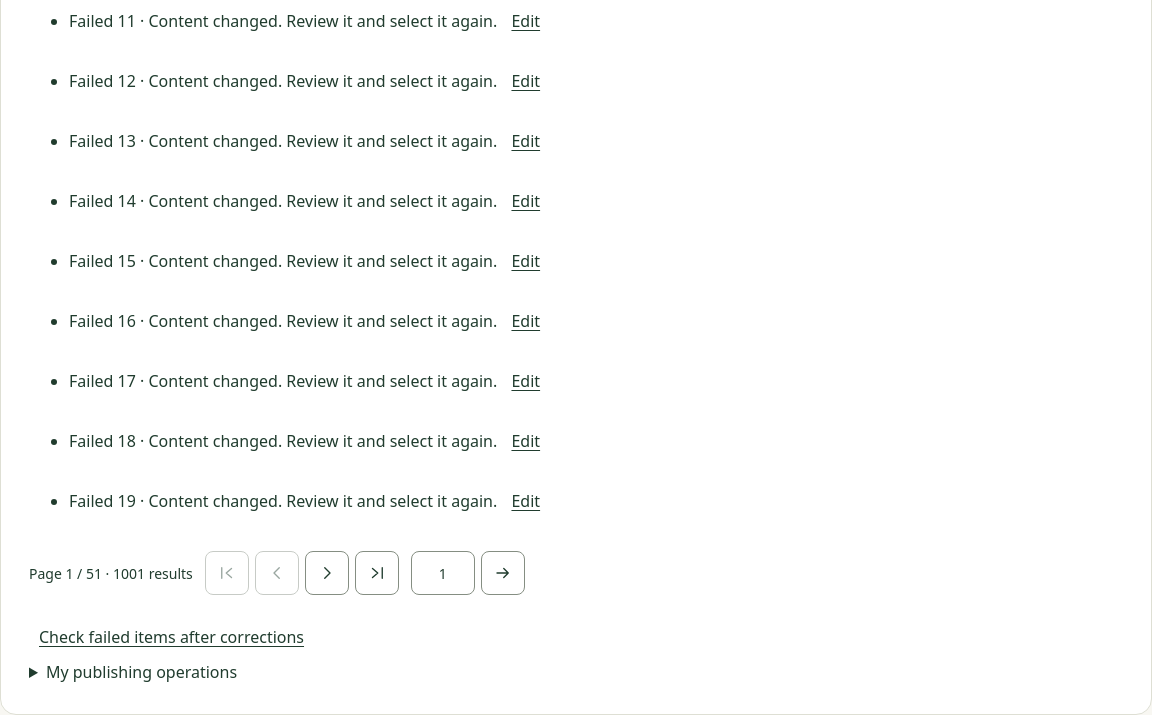
Test: checks beyond the first 1000 original failures after they were published by retry jobs
(page scrolled)
Step 1. Click the button "Check failed items after corrections" → (172, 637), box [29,615,314,659]
(page scrolled)
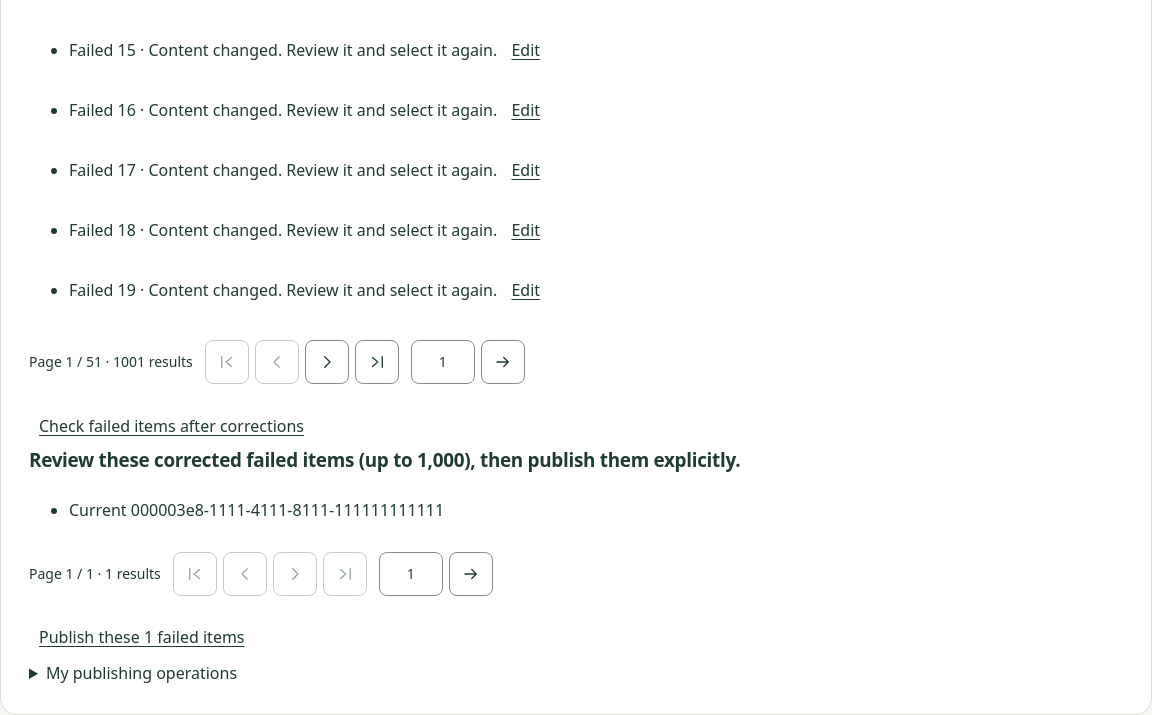
Check: the button "Publish these 1 failed items" is enabled, box [29,616,254,660]
